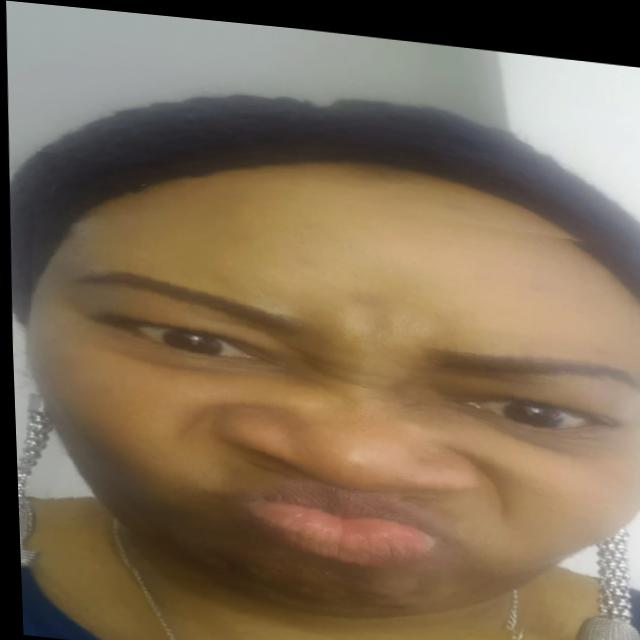sad: (10, 154, 640, 631)
